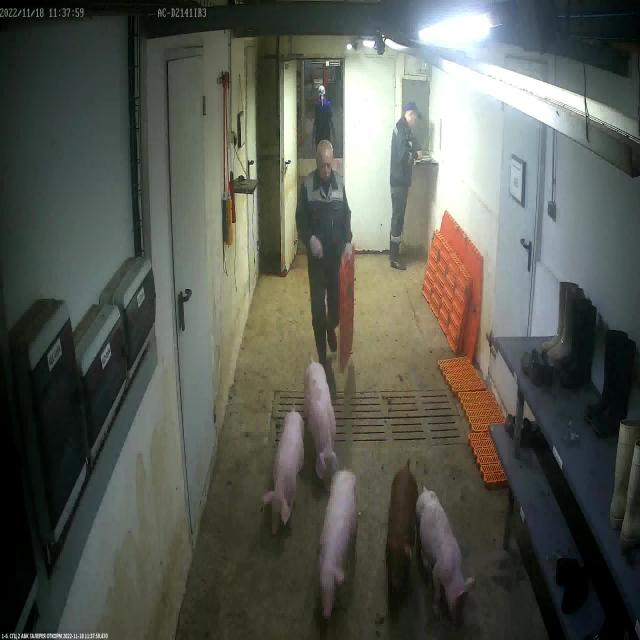pig: (414, 490, 476, 629), (318, 469, 357, 638), (265, 412, 306, 534), (304, 361, 340, 494), (388, 465, 418, 594)
